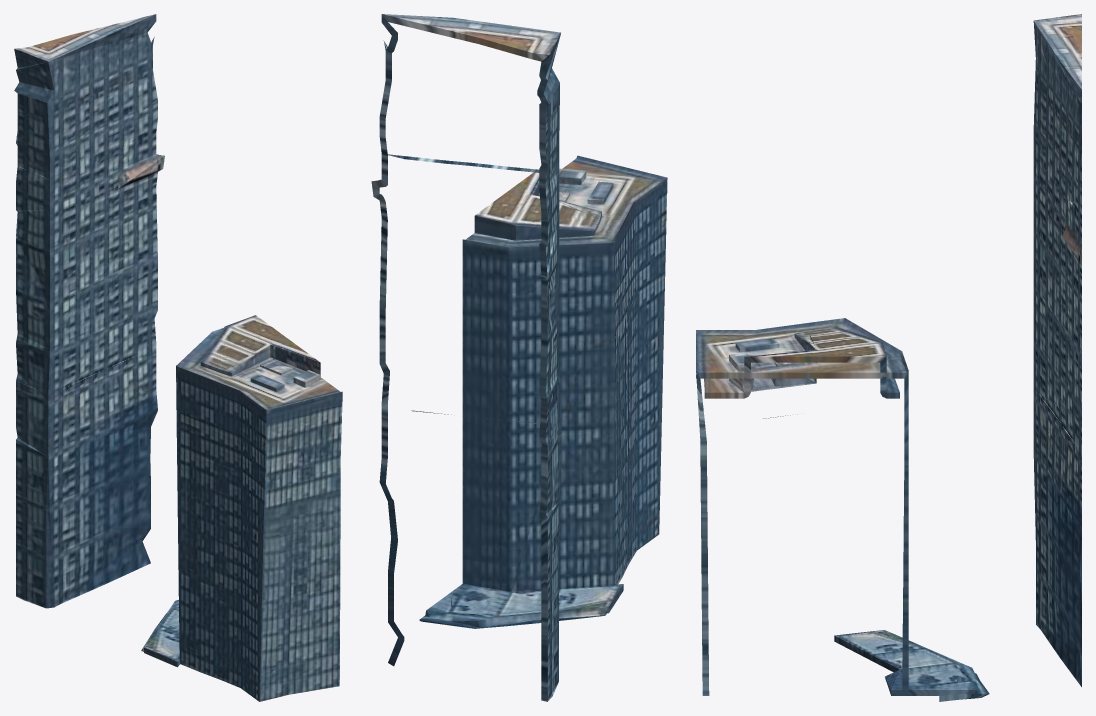
Rendered from chunk_6_1.glb.
3 views of the same model, side by side, from view 1: azimuth 30°, elevation 25°; view 2: azimuth 150°, elevation 25°; view 3: azimuth 270°, elevation 25° (orthographic). The views are drawn at different scales.
Parts seen in each view (by area): view 1: hero-chunk; view 2: hero-chunk; view 3: hero-chunk.
Boxes of the visible parts, bbox=[...] form: hero-chunk: bbox=[14, 14, 342, 701]; hero-chunk: bbox=[371, 14, 667, 701]; hero-chunk: bbox=[696, 14, 1081, 701].
Size of the model in its own units: 27.1 by 94.24 by 54.17.
Materials: 2 (2 with a texture image).
